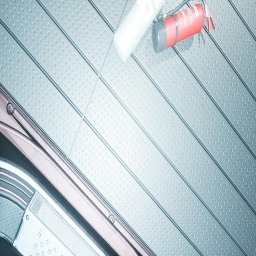0: (114, 0, 167, 63)
FireExtinguisher ]: (152, 0, 216, 54)
